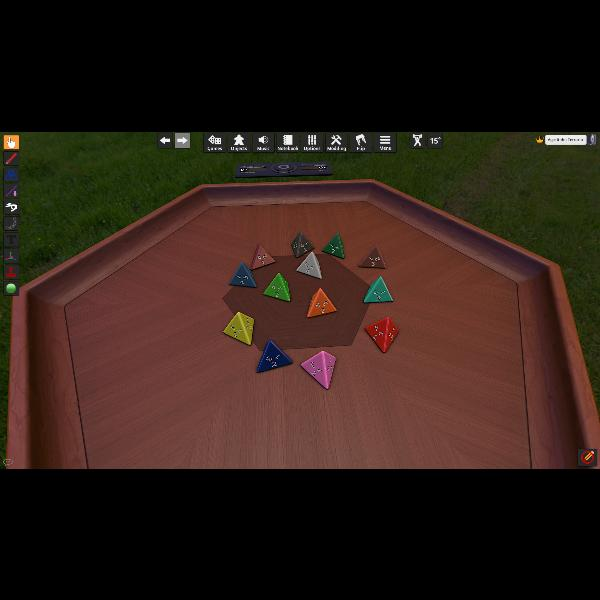d4: (300, 350, 336, 388), (256, 339, 292, 373), (365, 316, 397, 352), (225, 312, 256, 344), (308, 288, 336, 318), (362, 276, 392, 302), (228, 262, 258, 288), (264, 273, 290, 301), (296, 251, 322, 279), (358, 244, 386, 268), (250, 242, 274, 270), (292, 230, 314, 258), (322, 232, 344, 258)
